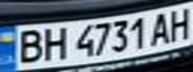1: (127, 14, 151, 50)
3: (109, 17, 133, 53)
4: (72, 21, 96, 57)
7: (90, 20, 115, 56)
A: (148, 10, 175, 45)
B: (9, 27, 45, 64)
H: (163, 4, 193, 42), (39, 25, 69, 61)
